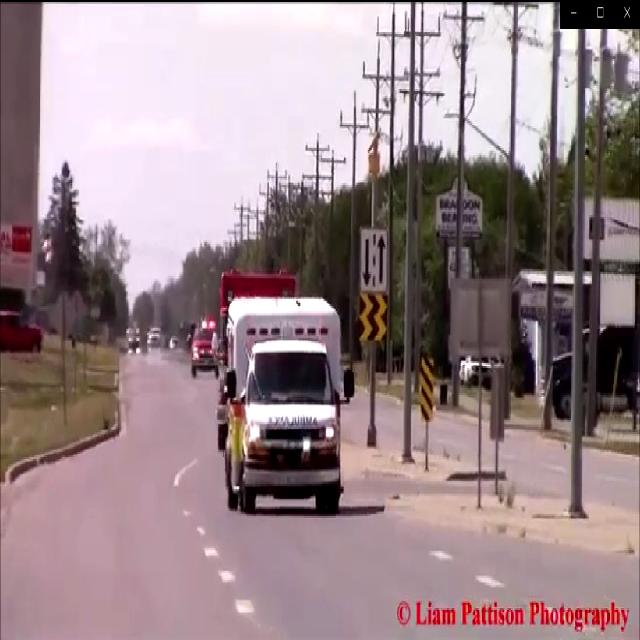emergency: (219, 296, 356, 523), (213, 264, 304, 462), (188, 311, 221, 383)
